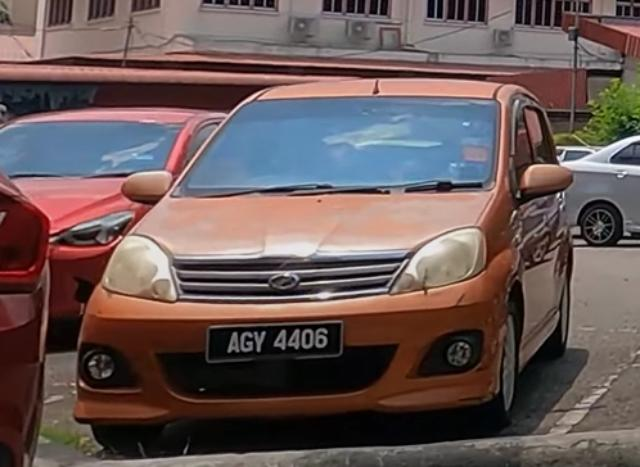License_Plate: (205, 320, 346, 364)
car: (73, 78, 576, 459)
